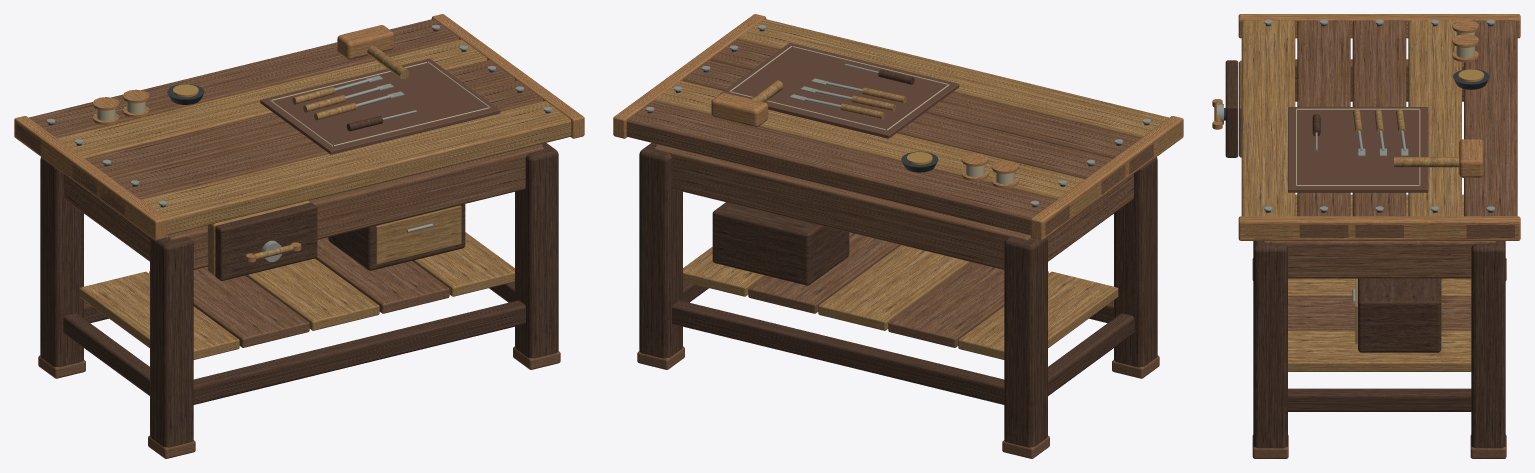
Rendered from crafting_table.glb.
3 renders of one model, left to right at view 1: azimuth 30°, elevation 25°; view 2: azimuth 150°, elevation 25°; view 3: azimuth 270°, elevation 25°, orthographic.
Visible parts, largest first — view 1: Workshop oak@heartwood, Workshop oak@planed plank, Workshop oak@aged frame, Workshop worn leather, Workshop oak@end grain, Workshop honed steel, Workshop linen cord; view 2: Workshop oak@heartwood, Workshop oak@aged frame, Workshop oak@planed plank, Workshop worn leather, Workshop oak@end grain, Workshop linen cord, Workshop honed steel; view 3: Workshop oak@heartwood, Workshop oak@planed plank, Workshop oak@aged frame, Workshop worn leather, Workshop oak@end grain, Workshop honed steel, Workshop linen cord, Workshop forged iron.
Boxes of the visible parts, x1,y1,x2,y2 form: Workshop oak@heartwood: (16, 19, 560, 458); Workshop oak@planed plank: (46, 39, 571, 359); Workshop oak@aged frame: (40, 116, 558, 447); Workshop worn leather: (260, 58, 500, 154); Workshop oak@end grain: (14, 14, 584, 262); Workshop honed steel: (46, 25, 552, 261); Workshop linen cord: (96, 61, 490, 146); Workshop oak@heartwood: (626, 39, 1159, 458); Workshop oak@aged frame: (639, 69, 1157, 447); Workshop oak@planed plank: (654, 19, 1181, 359); Workshop worn leather: (719, 42, 959, 138); Workshop oak@end grain: (613, 14, 1183, 240); Workshop linen cord: (729, 46, 1014, 184); Workshop honed steel: (645, 25, 1151, 205); Workshop oak@heartwood: (1252, 20, 1517, 458); Workshop oak@planed plank: (1214, 20, 1471, 371); Workshop oak@aged frame: (1225, 60, 1505, 448); Workshop worn leather: (1288, 107, 1428, 192); Workshop oak@end grain: (1212, 14, 1520, 240); Workshop honed steel: (1217, 19, 1494, 303); Workshop linen cord: (1295, 32, 1474, 186); Workshop forged iron: (1224, 24, 1493, 212).
Bounding box in the file's own units: 1.72 × 1.03 × 1.07.
Materials: 9 (4 with a texture image).
